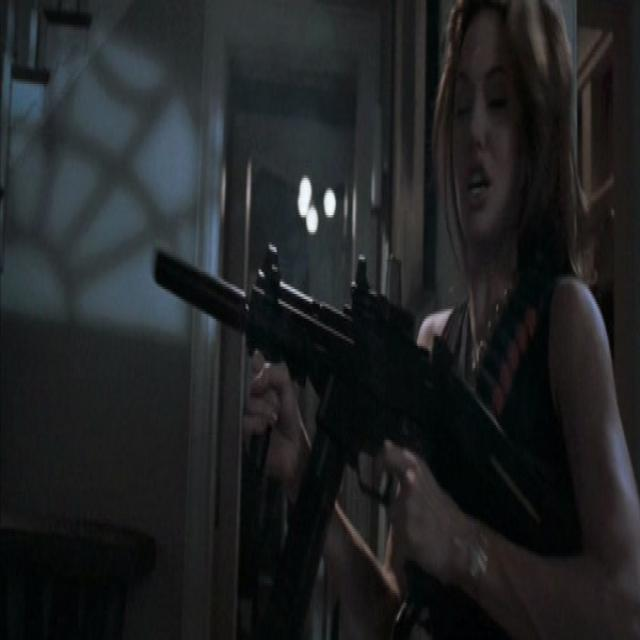rifle: (146, 222, 507, 639)
